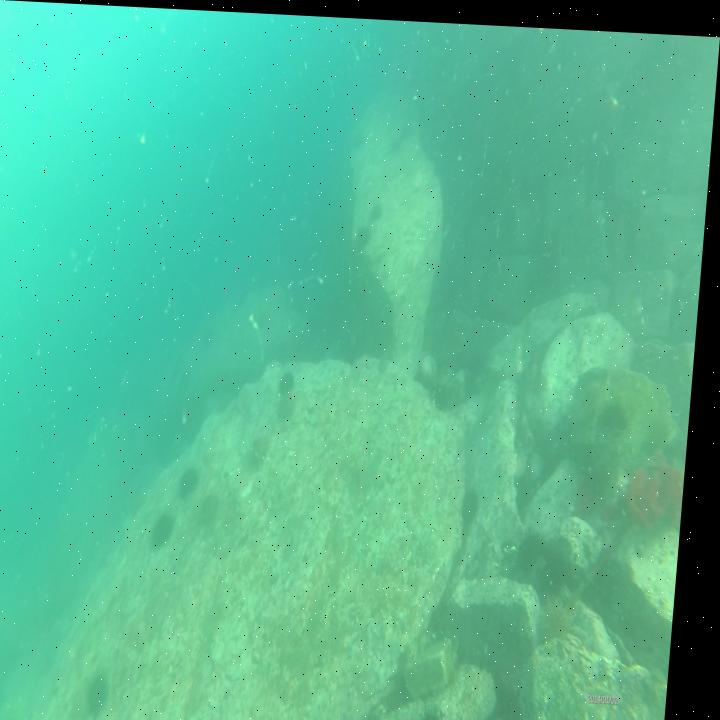echinus: (546, 588, 584, 641), (600, 390, 642, 434), (523, 517, 554, 571), (95, 668, 124, 720), (154, 508, 185, 553), (464, 474, 492, 522), (553, 529, 579, 578), (182, 459, 209, 505), (516, 458, 545, 499), (253, 430, 279, 470), (207, 488, 228, 531), (427, 695, 463, 720), (284, 388, 306, 423), (280, 364, 302, 397), (357, 216, 378, 248), (370, 194, 390, 220)
